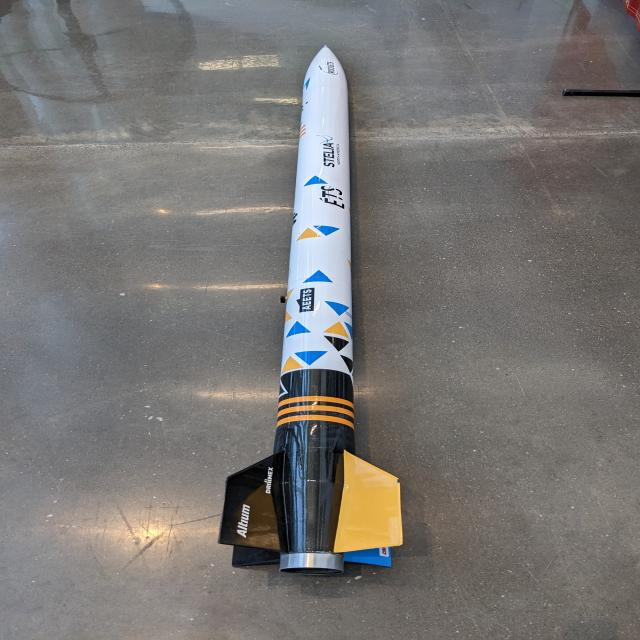Rocket: (217, 44, 404, 575)
